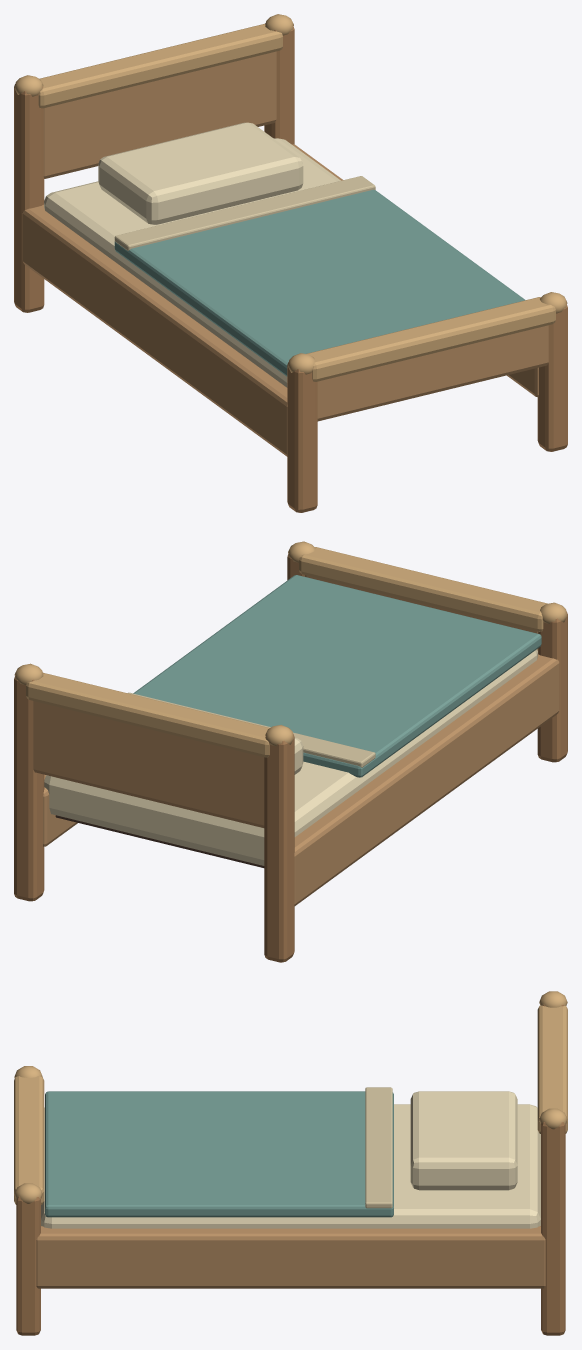
The model's file is bed_single_1_1x2m.glb.
3 views of the same model, one above another, from view 1: azimuth 30°, elevation 25°; view 2: azimuth 150°, elevation 25°; view 3: azimuth 270°, elevation 25° (orthographic). The views are drawn at different scales.
Parts seen in each view (by area): view 1: bed_single_1_1x2m; view 2: bed_single_1_1x2m; view 3: bed_single_1_1x2m.
Part boxes in pixels (x1,y1,x2,y2): bed_single_1_1x2m: (14,14,567,512); bed_single_1_1x2m: (14,541,567,962); bed_single_1_1x2m: (14,991,567,1335).
Bounding box in the file's own units: 1.11 × 0.895 × 2.02.
